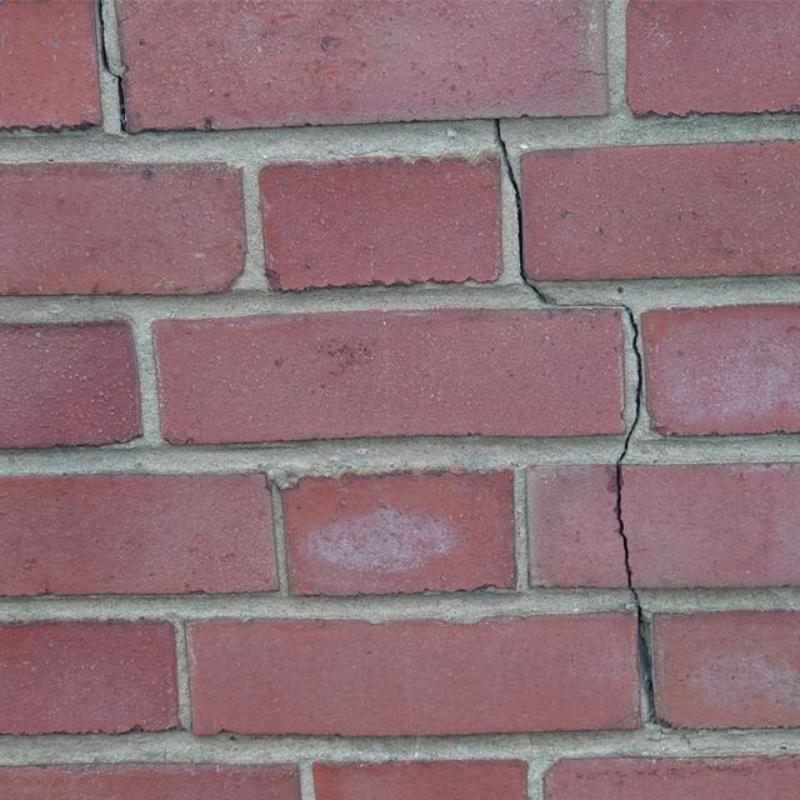pothole: (495, 119, 551, 304), (616, 312, 642, 597), (638, 605, 672, 730), (98, 1, 127, 136), (552, 301, 630, 312)
